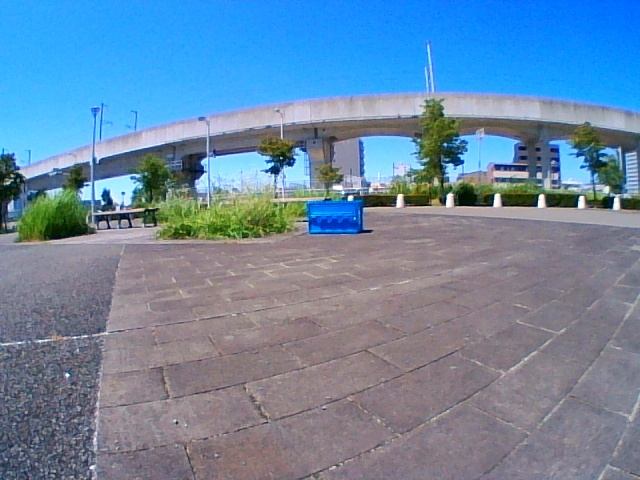blue_box: (309, 202, 362, 235)
tag: (358, 212, 360, 224)
